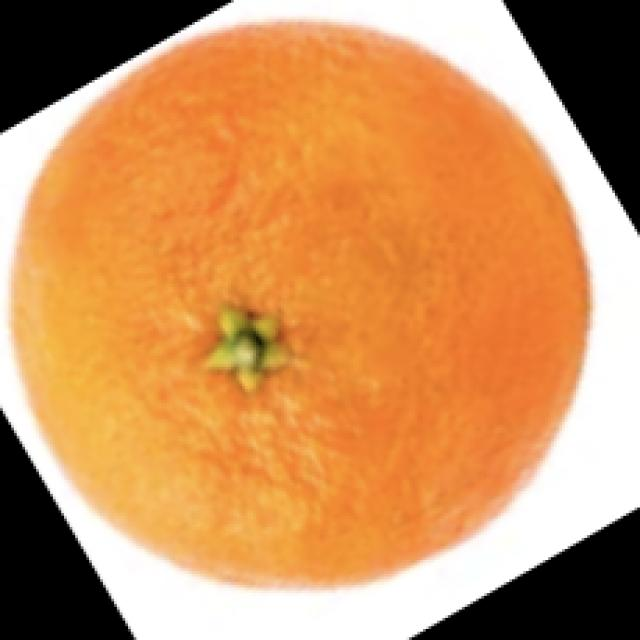fresh: (0, 5, 595, 597)
